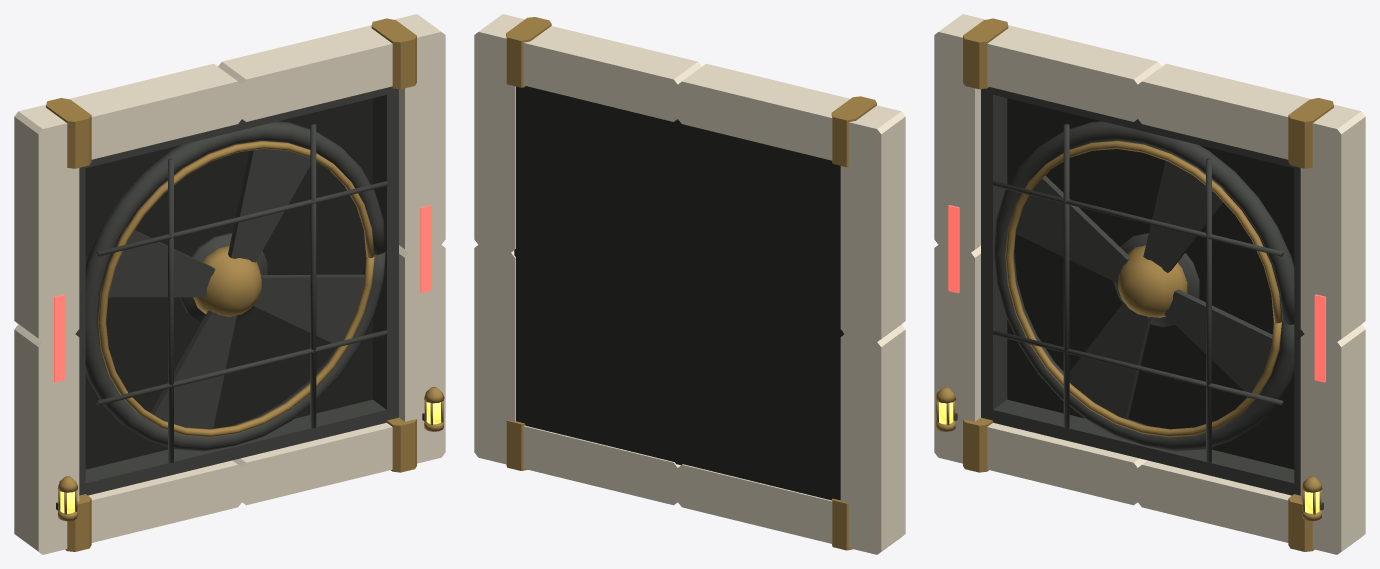
Rendered from b1_fan.glb.
3 views of the same model, side by side, from view 1: azimuth 30°, elevation 25°; view 2: azimuth 150°, elevation 25°; view 3: azimuth 330°, elevation 25° (orthographic).
Visible parts, largest first — view 1: b1_fan; view 2: b1_fan; view 3: b1_fan.
Part boxes in pixels (x1,y1,x2,y2): b1_fan: [14, 14, 445, 554]; b1_fan: [474, 14, 905, 554]; b1_fan: [934, 14, 1365, 554].
Size of the model in its own units: 4 by 4.04 by 0.67.
